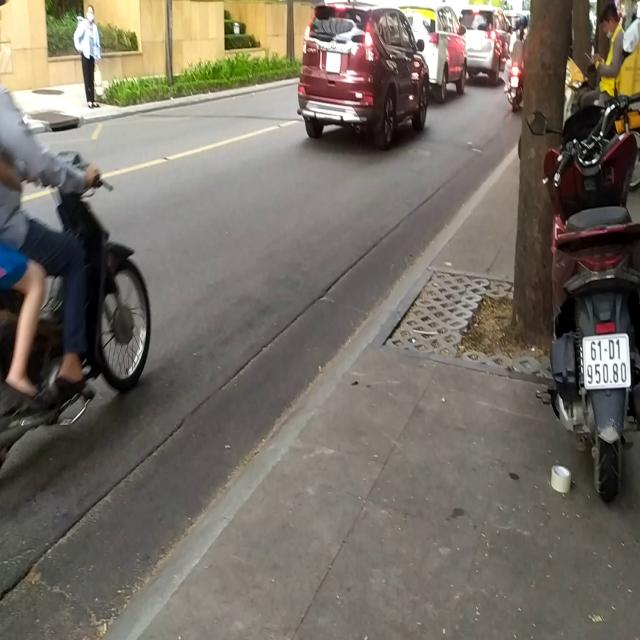bien_trang: (581, 332, 629, 388)
